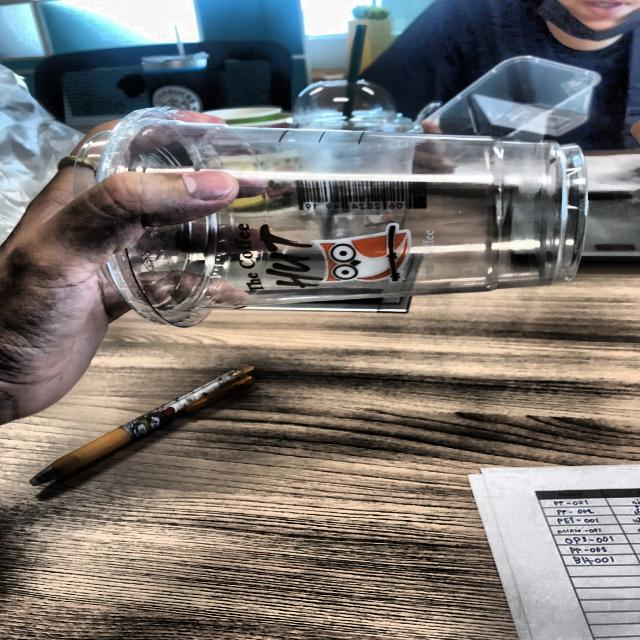plastic cup: (56, 96, 611, 344)
